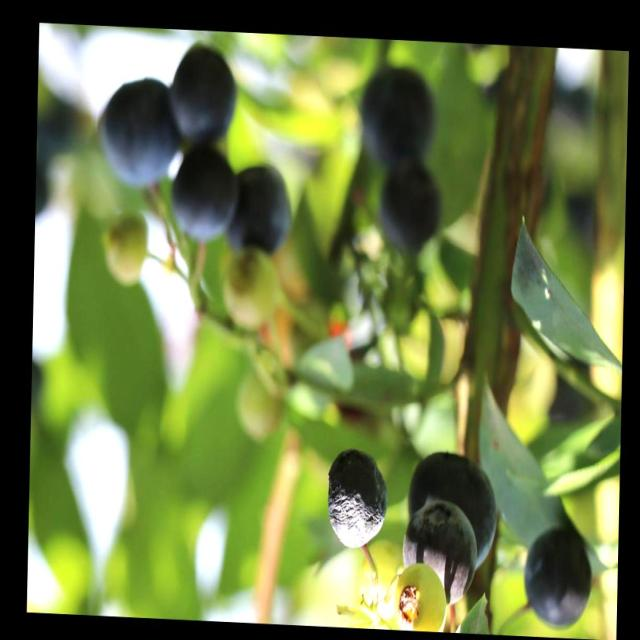blueberry: (395, 450, 498, 562), (517, 519, 599, 636), (97, 73, 178, 190), (353, 72, 438, 170), (399, 498, 479, 600), (165, 42, 242, 146), (168, 142, 238, 246), (225, 160, 296, 260), (324, 452, 386, 553), (377, 170, 441, 254)
blueberry-unripe: (394, 564, 449, 631), (356, 540, 404, 616), (101, 210, 149, 286)
